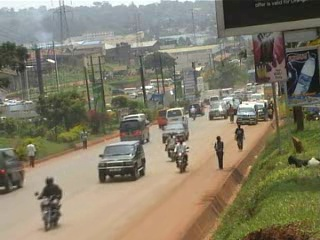Car: (94, 138, 147, 184), (160, 119, 190, 143), (208, 99, 229, 121), (188, 99, 205, 115)
Motorcycle: (34, 174, 62, 233), (172, 136, 193, 174), (162, 130, 178, 162), (189, 104, 197, 121)
